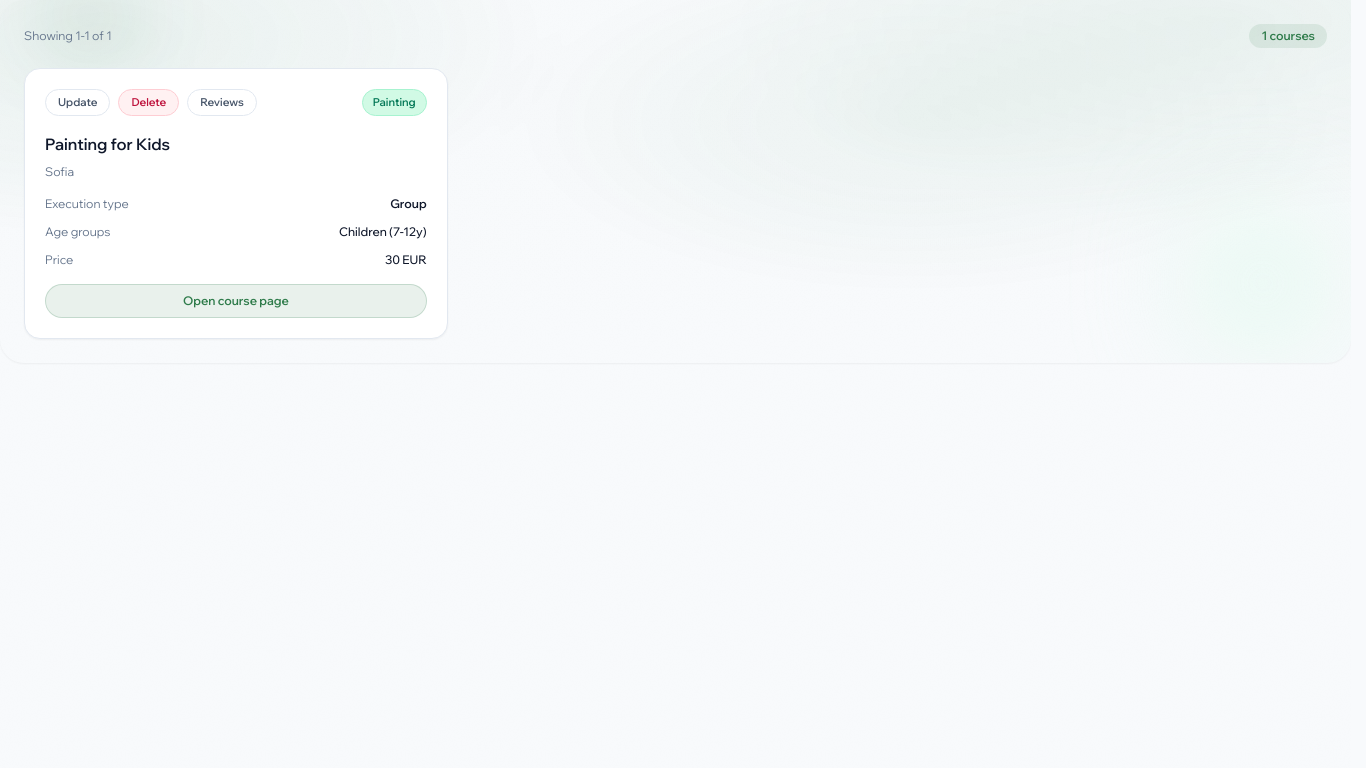
AdminCoursesGrid › opens delete modal and confirms course deletion
The width and height of the screenshot is (1366, 768).
Click the button "Delete": (149, 102) [118,89,179,116]
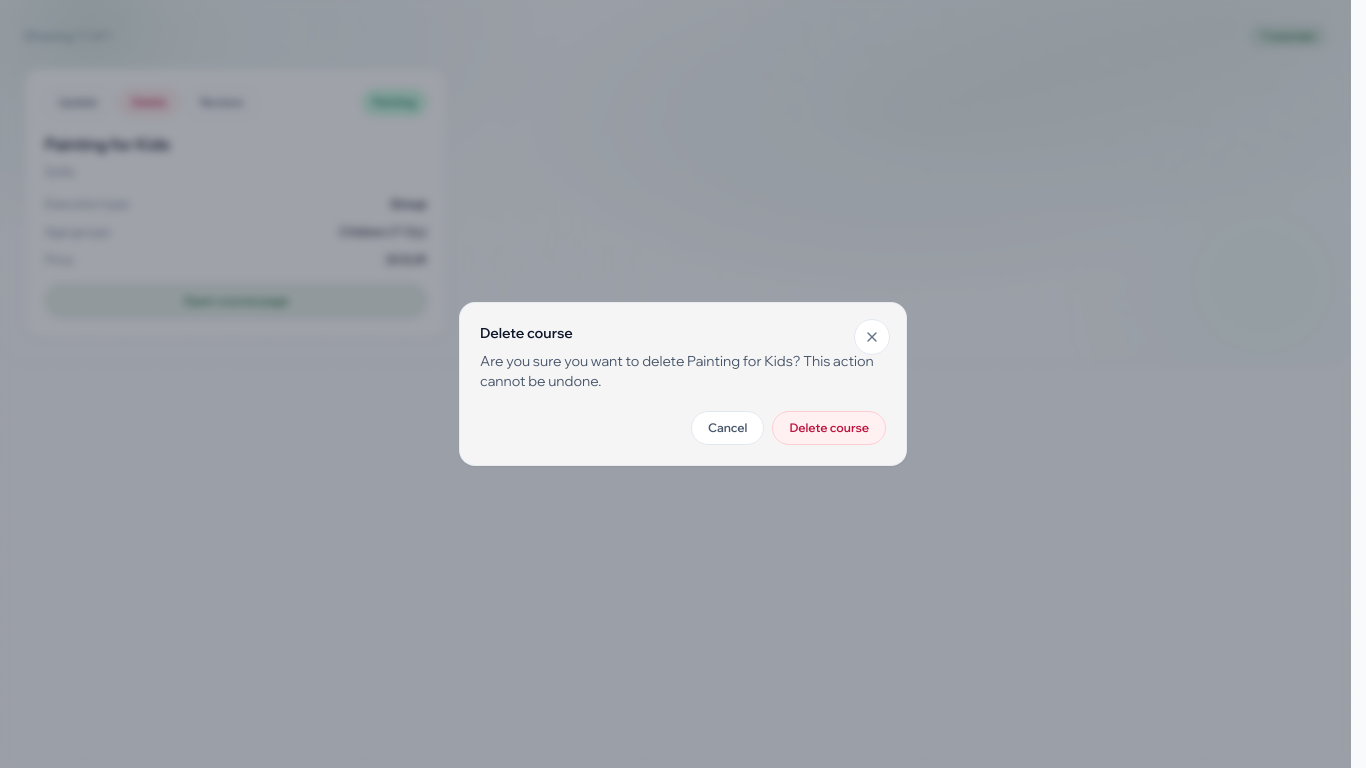
Expected: the heading "Delete course" is shown, [480,324,573,342]
Click the button "Delete course": (829, 428) [772,411,886,445]
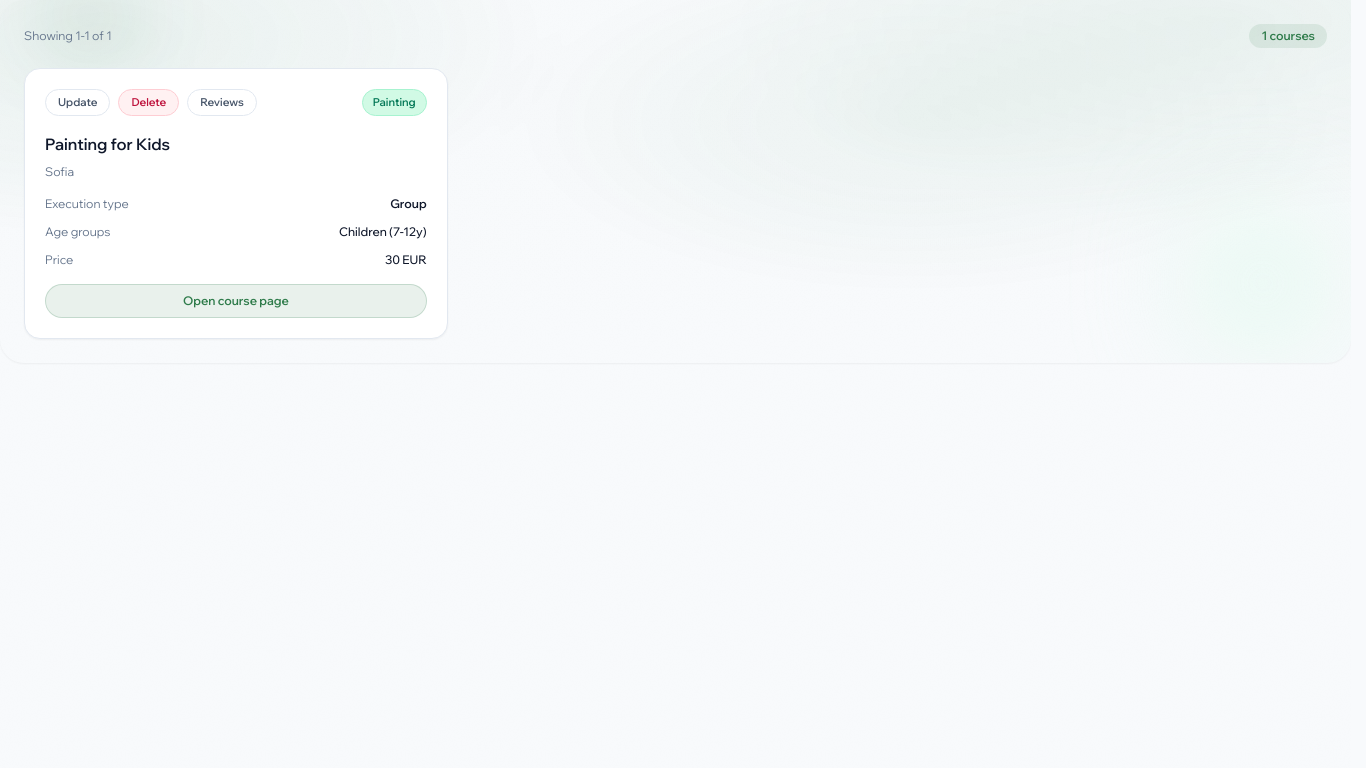
Expected: the dialog is gone
